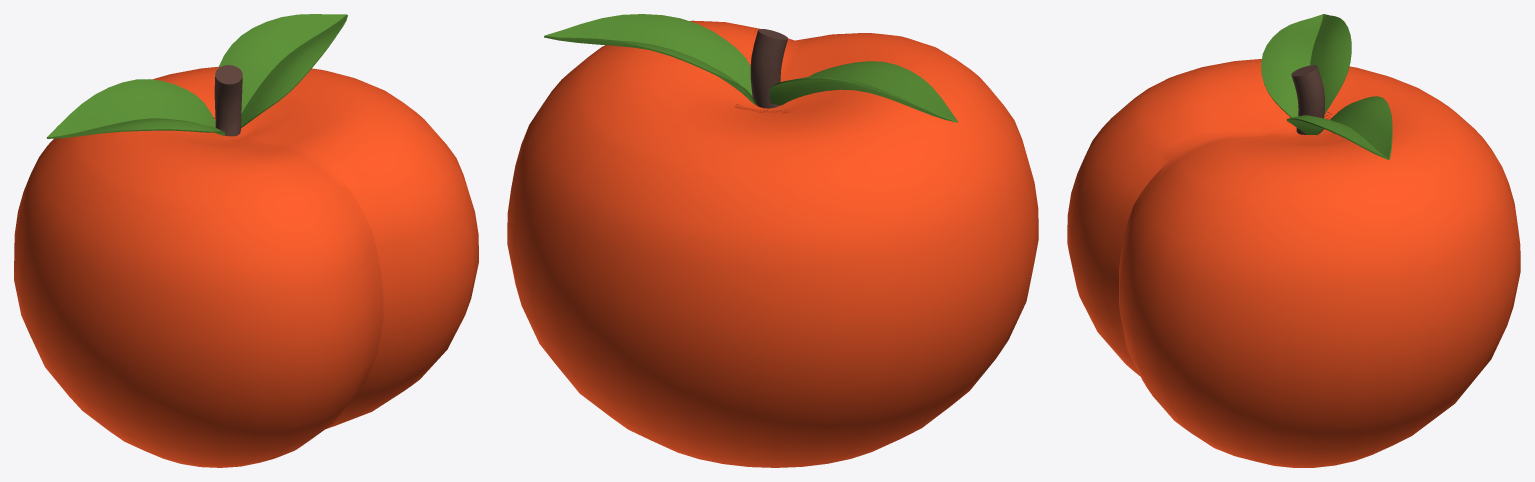
File: peach.glb
3 renders of one model, left to right at view 1: azimuth 30°, elevation 25°; view 2: azimuth 150°, elevation 25°; view 3: azimuth 270°, elevation 25°, orthographic. The views are drawn at different scales.
Visible parts, largest first — view 1: Sphere.475; view 2: Sphere.475; view 3: Sphere.475.
Part boxes in pixels (left/top/right/bottom): Sphere.475: left=14, top=14, right=478, bottom=467; Sphere.475: left=507, top=14, right=1038, bottom=467; Sphere.475: left=1067, top=14, right=1520, bottom=467.
Bounding box in the file's own units: 2.28 × 2.02 × 2.2.
Materials: 1 (1 with a texture image).
